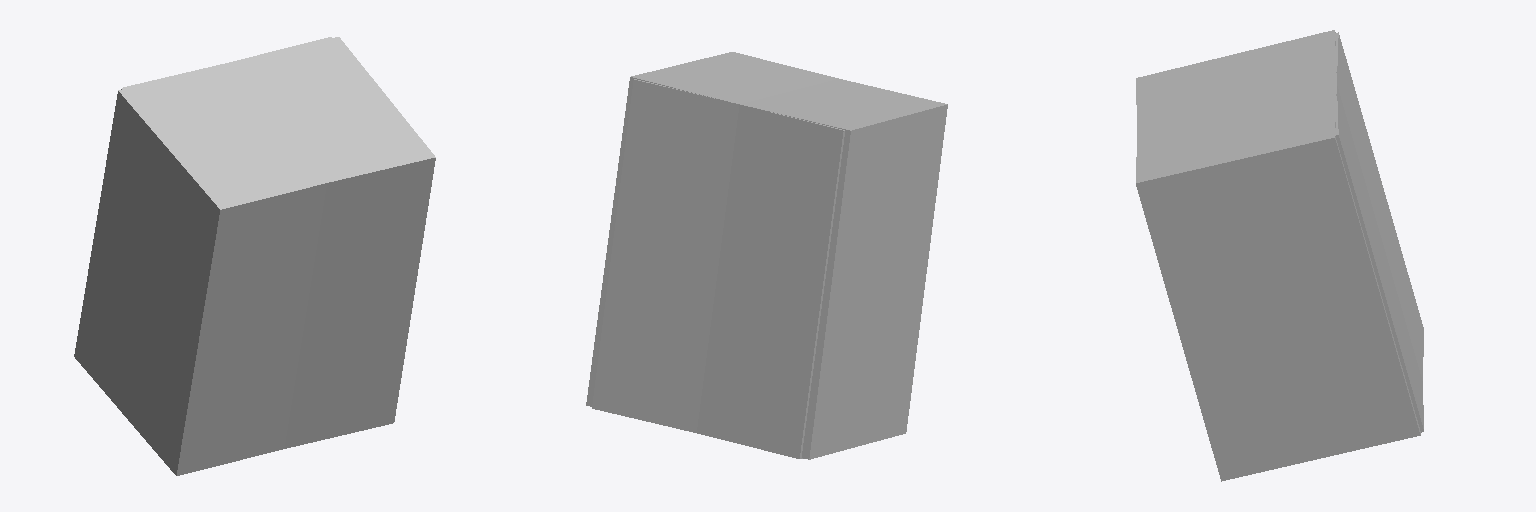
The model's file is neck.obj.
The picture shows the model from 3 angles: view 1: azimuth 30°, elevation 25°; view 2: azimuth 150°, elevation 25°; view 3: azimuth 270°, elevation 25°; orthographic projection.
Visible parts, largest first — view 1: 首; view 2: 首; view 3: 首.
Boxes of the visible parts, x1,y1,x2,y2 form: 首: [74, 37, 435, 475]; 首: [586, 52, 947, 459]; 首: [1136, 30, 1423, 481].
Bounding box in the file's own units: 0.2492 × 0.3678 × 0.2794.